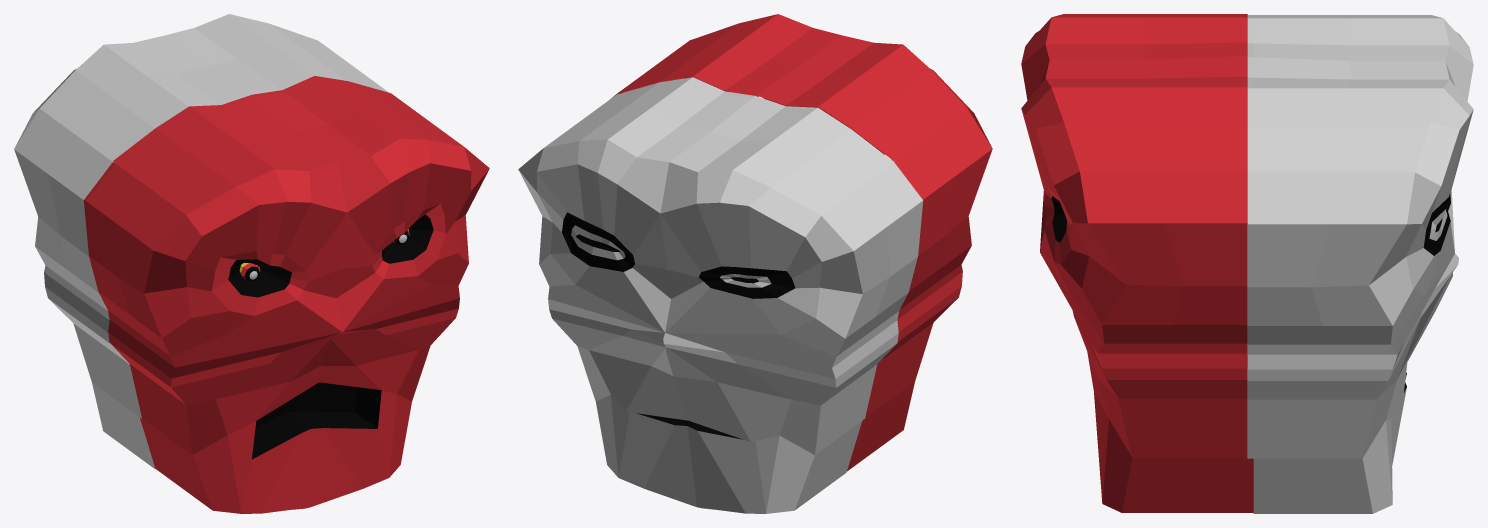
File: Ghost.fbx
3 renders of one model, left to right at view 1: azimuth 30°, elevation 25°; view 2: azimuth 150°, elevation 25°; view 3: azimuth 270°, elevation 25°, orthographic. The views are drawn at different scales.
Parts seen in each view (by area): view 1: Sphere; view 2: Sphere; view 3: Sphere.
Boxes of the visible parts, x1,y1,x2,y2 form: Sphere: (14,14,489,513); Sphere: (518,14,992,513); Sphere: (1021,14,1473,513).
Bounding box in the file's own units: 172 × 185 × 175.
